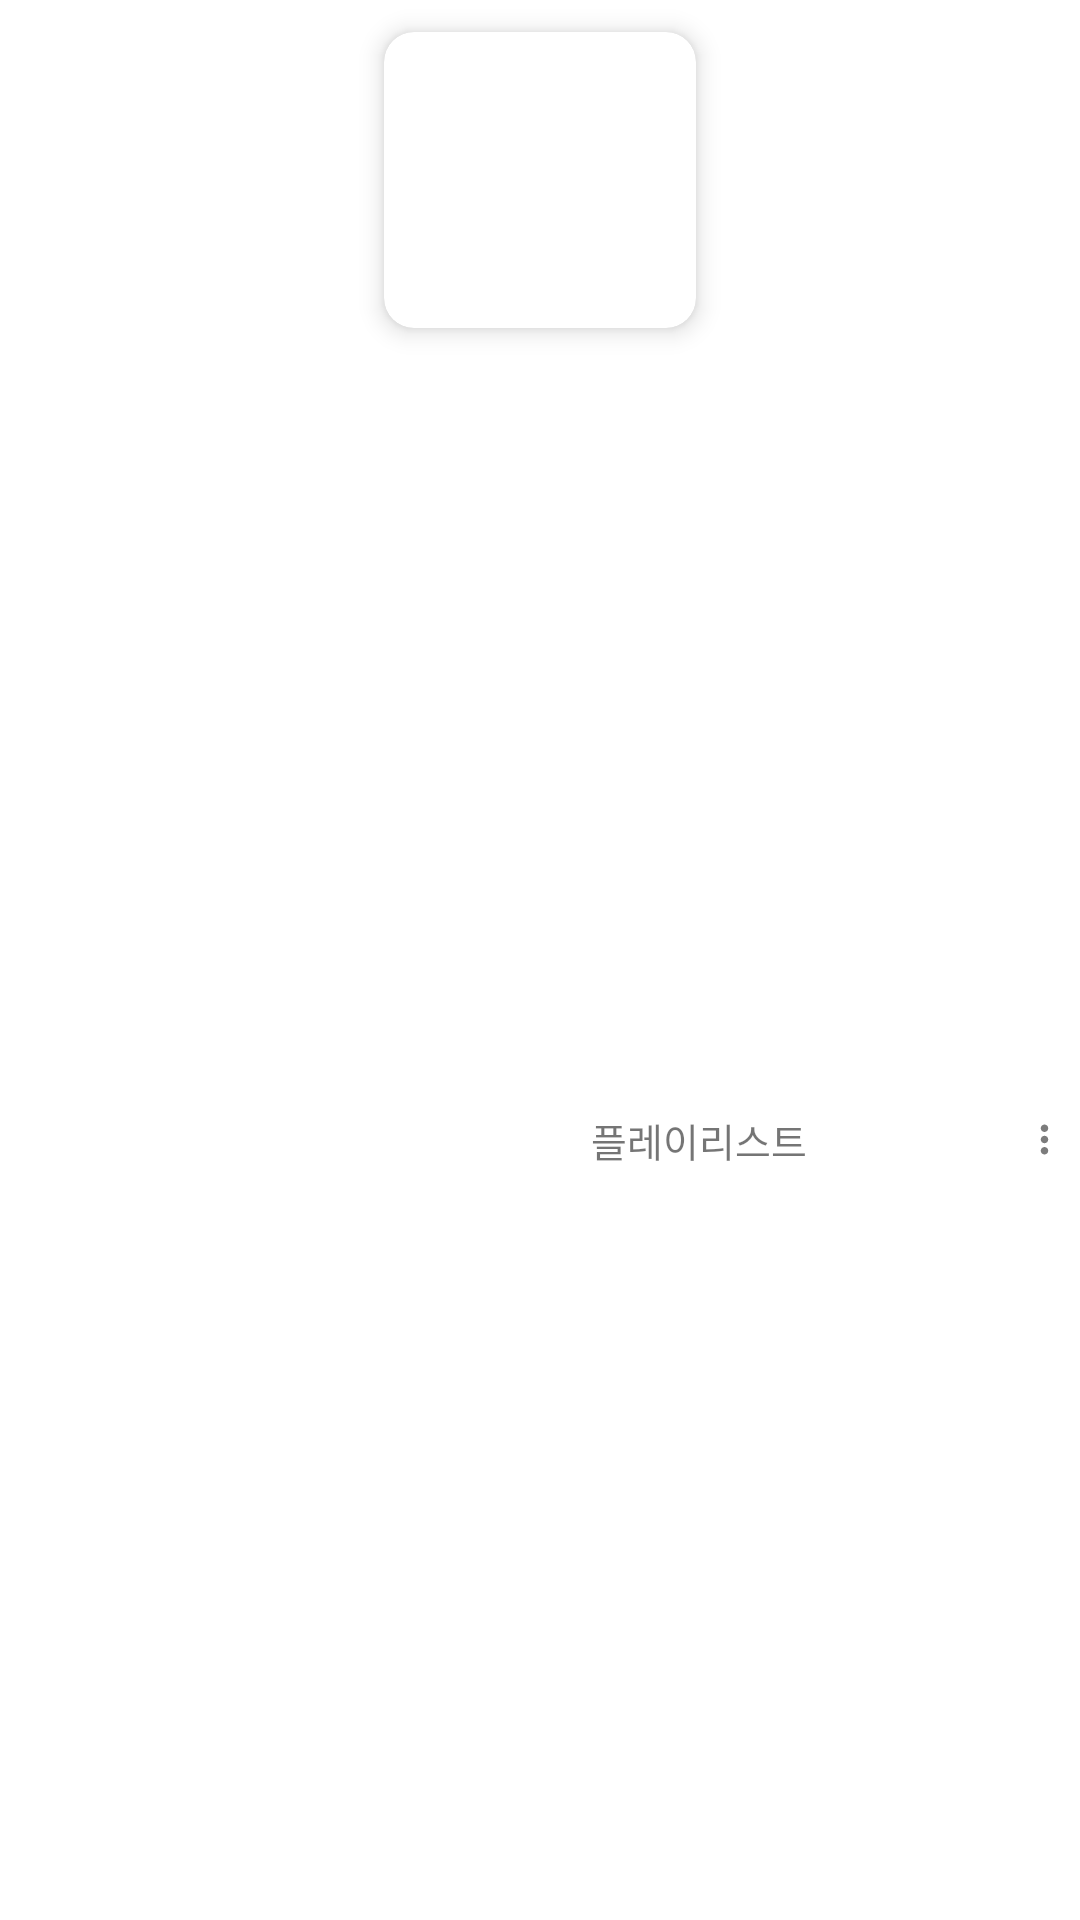

Where to tap for icons on this 1080 x 1920 app screen, as point (x, y):
more vert: point (1044, 1139)
